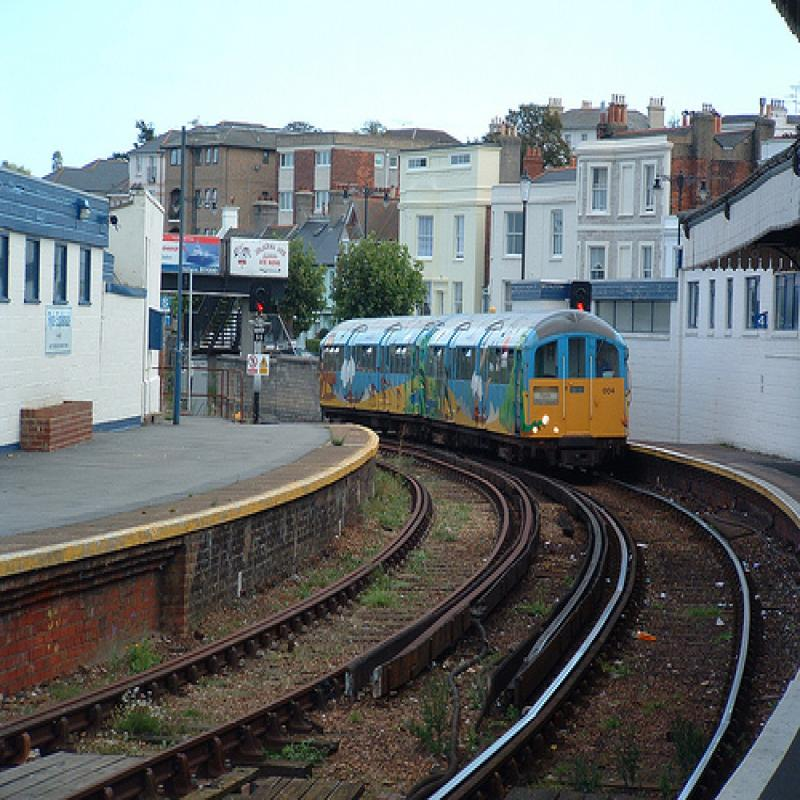train: (321, 304, 636, 485)
